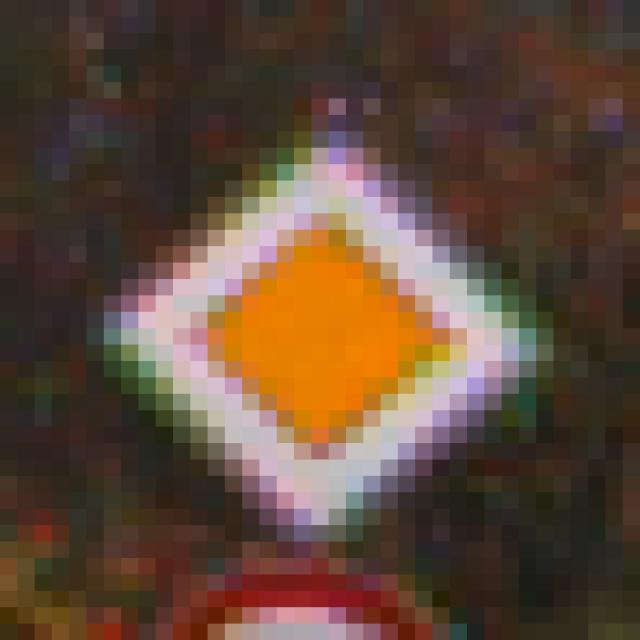Main Road: (88, 100, 537, 543)
